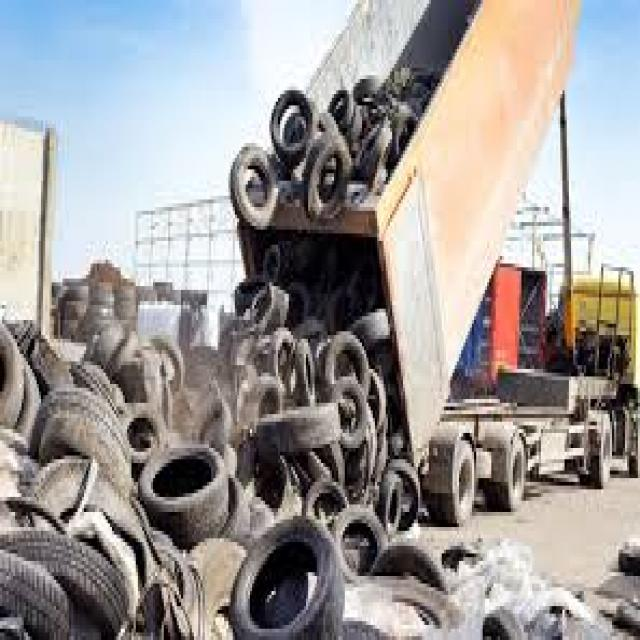Rubber -Non-Biodegradable but Recyclable-: (0, 243, 623, 640), (232, 55, 433, 232)
